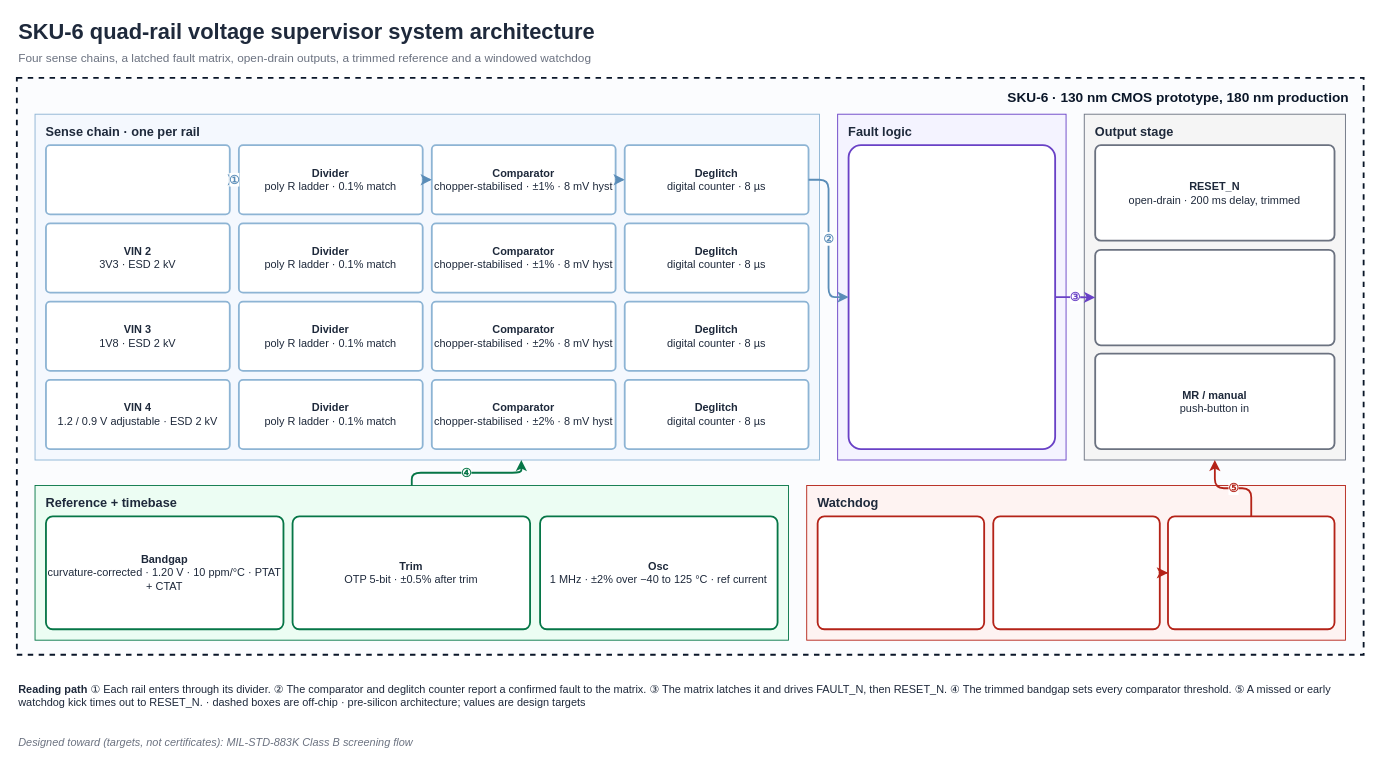
This 1380x768 diagram has some shape labels left out. The centre of each missing label's shape, as x and y in pixels:
"Fault matrix maskable · latched · priority enc · mask reg · latch · I²C regs" belongs at pixel 951 297.
"FAULT_N open-drain · asserts before RESET_N" belongs at pixel 1214 297.
"Timeout counter → RESET_N" belongs at pixel 1251 572.
"VIN 1 5V0 · ESD 2 kV" belongs at pixel 137 179.
"WDI kick input" belongs at pixel 1076 572.
"Window logic open + close · 100 ms to 1.6 s" belongs at pixel 900 572.
